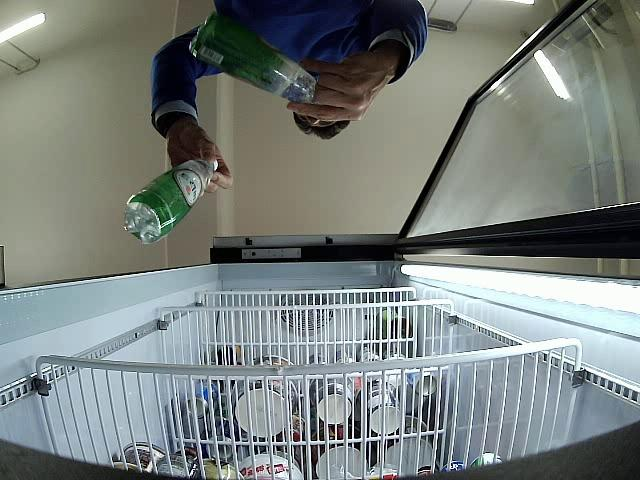00_hand: (287, 52, 398, 120), (167, 135, 233, 195)
18_trevi: (190, 13, 316, 104), (125, 159, 218, 245)
